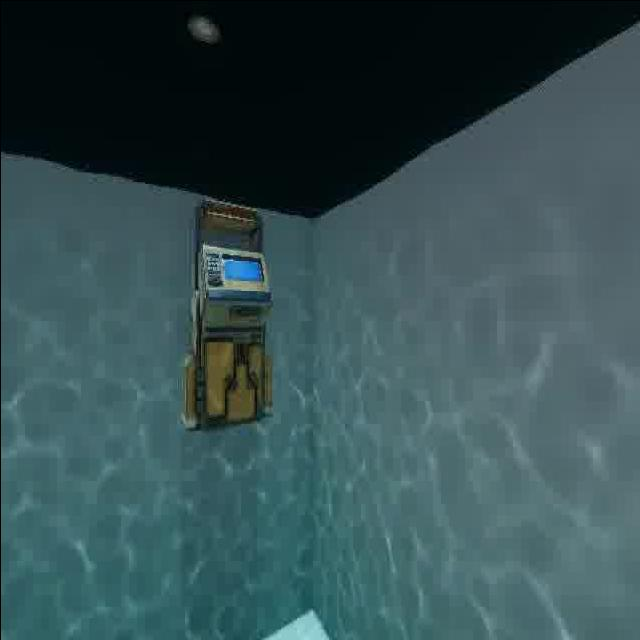Control Panel: (169, 190, 279, 446)
